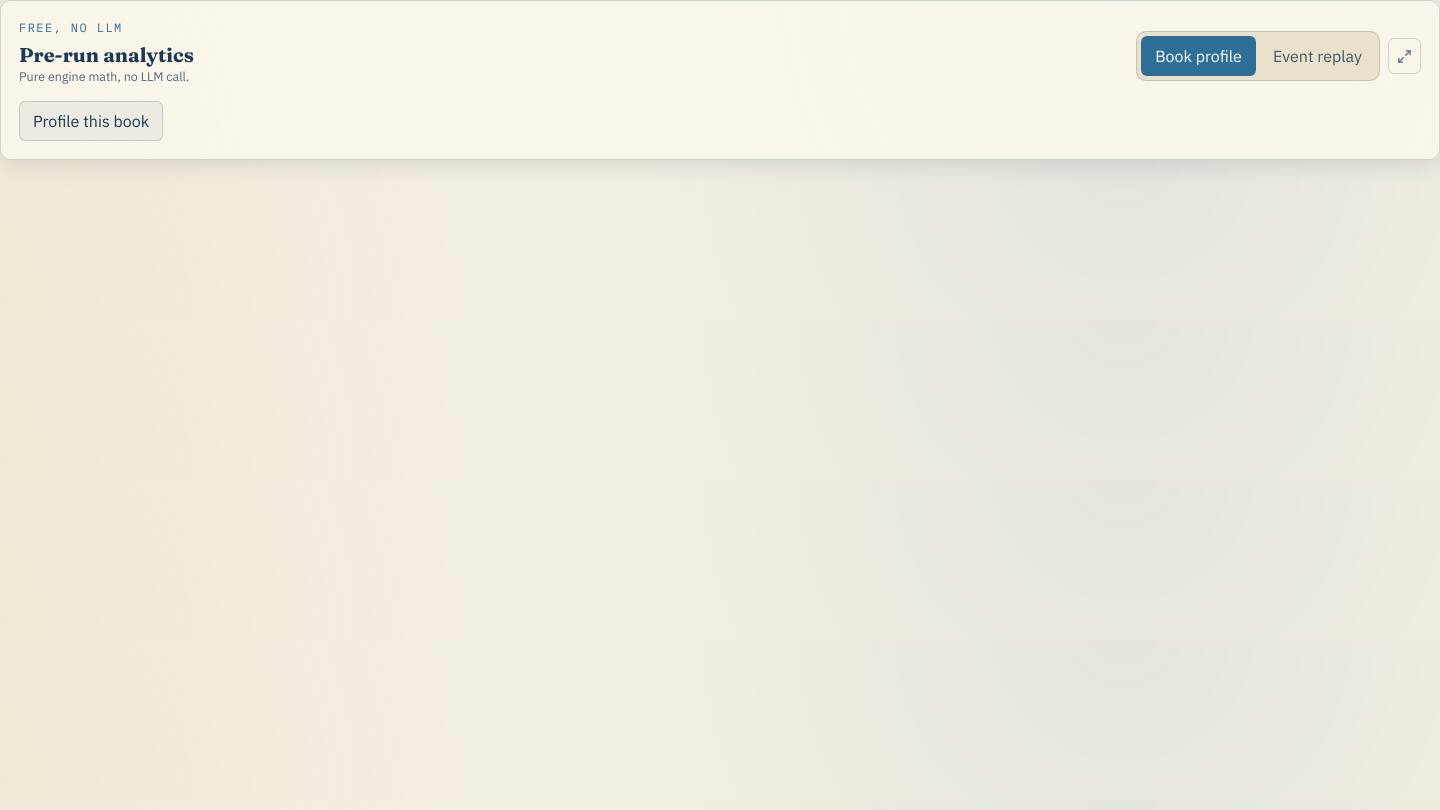
Test case: KnowYourBook › shows honest cold-load copy while event replay is computing
Click the radio button labelled "Event replay": (1318, 56) [1260,36,1375,76]
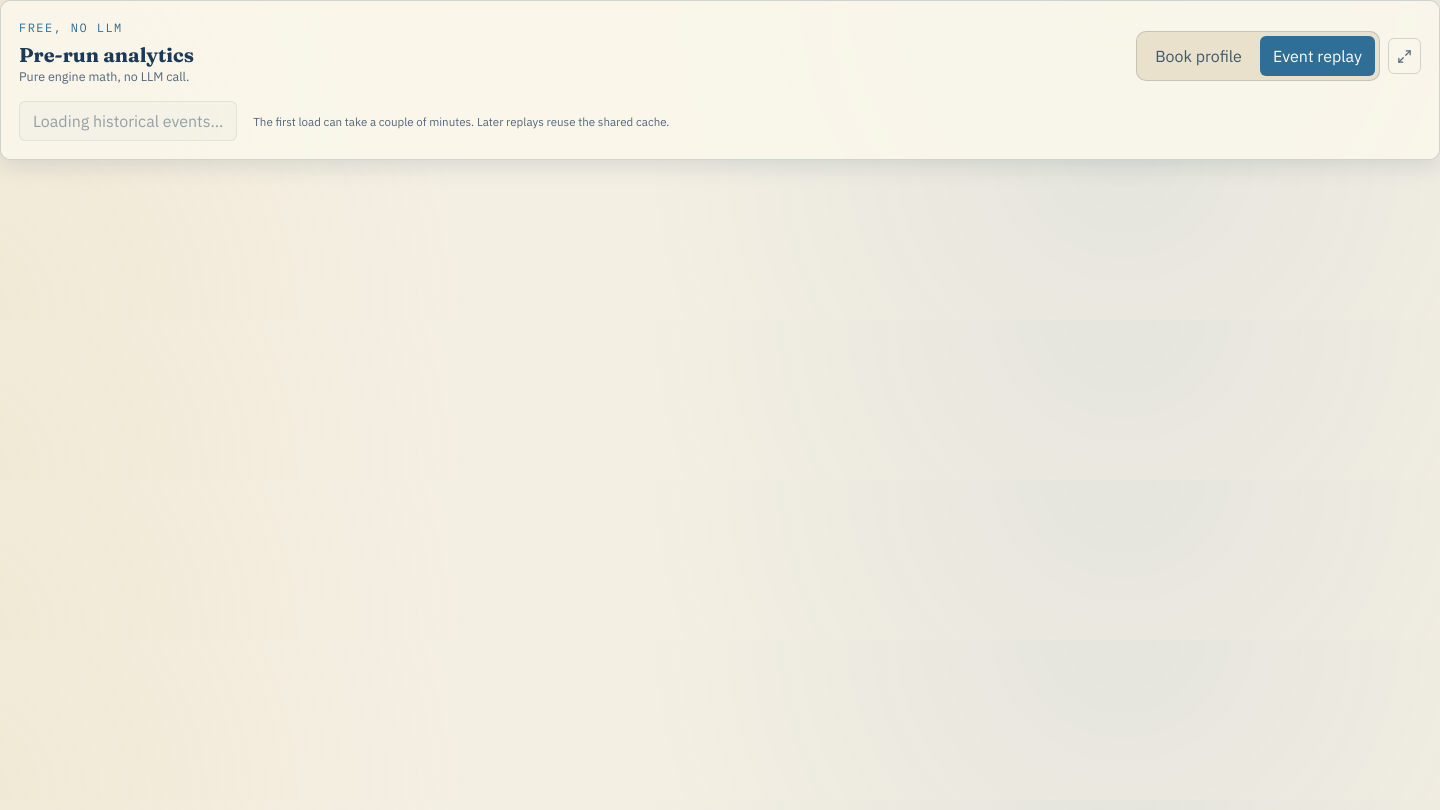
expect the button "Loading historical events…" is disabled: met, box [19,101,237,141]
expect the text "first load can take a couple of minutes" is shown: met, box [253,114,670,128]
